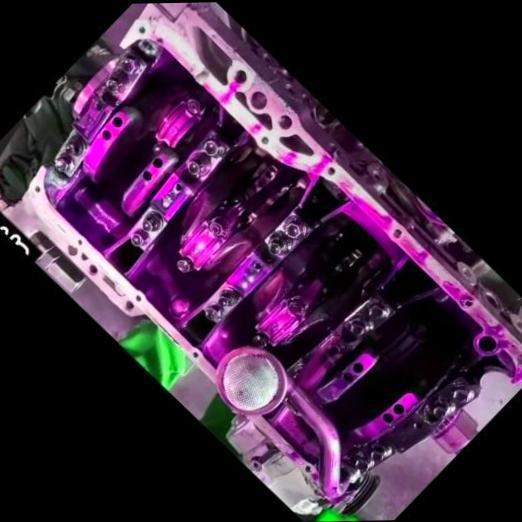hole: (230, 66, 251, 86), (274, 110, 294, 130), (390, 226, 404, 238), (324, 163, 336, 176), (302, 461, 314, 473), (259, 133, 270, 144), (30, 181, 42, 191), (136, 22, 146, 33), (74, 235, 84, 245), (132, 291, 142, 301), (189, 347, 200, 356)
